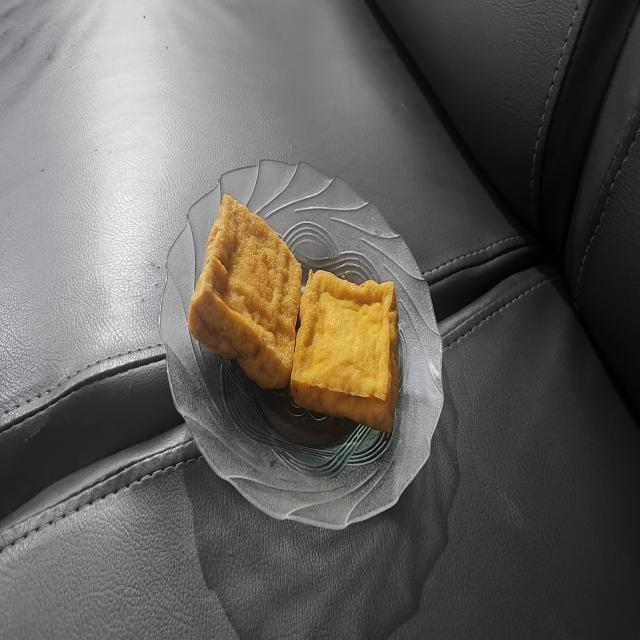tahu_goreng: (188, 194, 302, 388), (290, 269, 399, 432)
